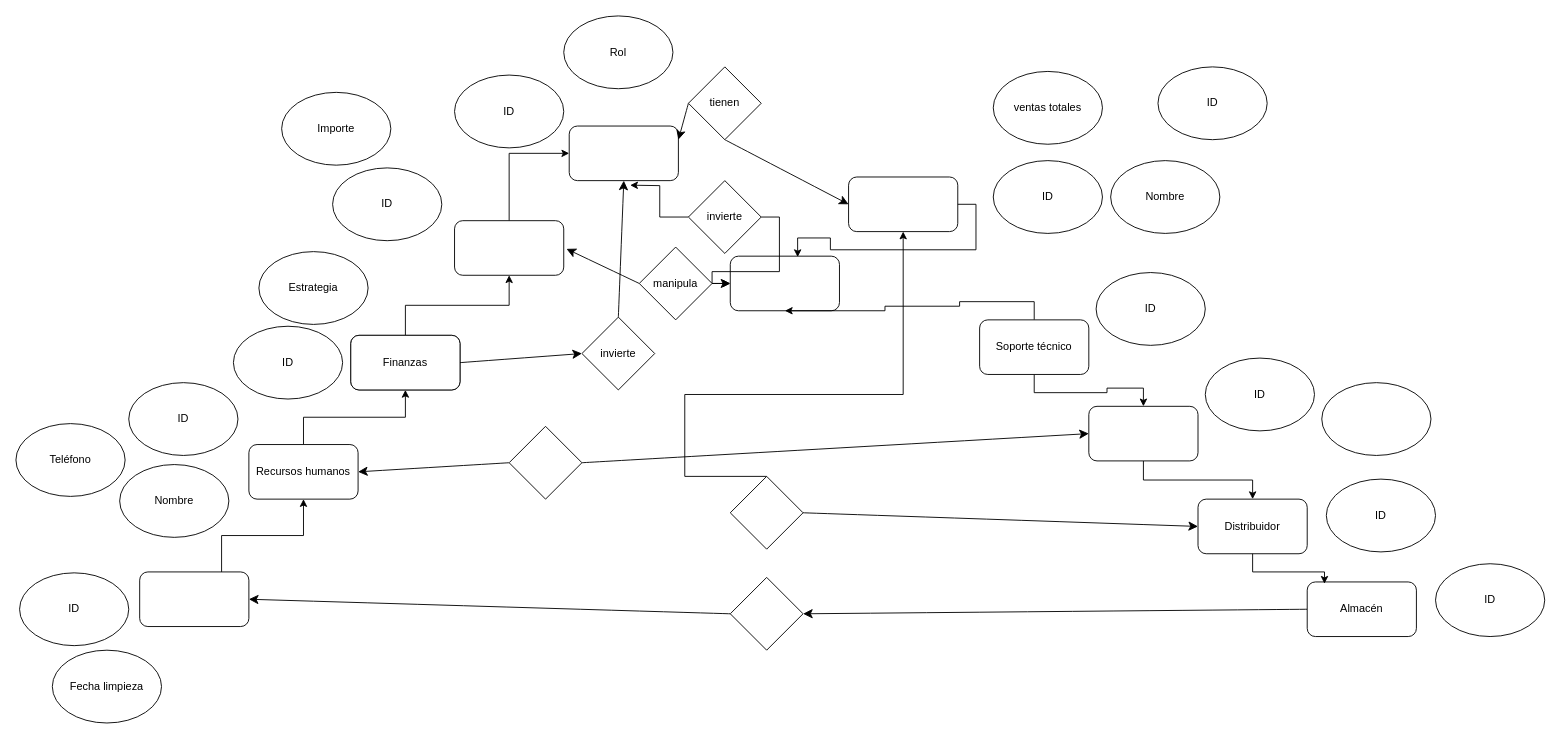
This 1561x739 diagram has some shape labels left out. The shapes that lost their labels are listed below. From the top down, each one's centre as x and y in pixels, then its label:
point (623, 153): Proyectos
point (903, 204): Ventas
point (509, 247): Pedidos
point (784, 283): Proveedor
point (1143, 433): Servicio
point (545, 462): gestiona
point (766, 512): reparte
point (194, 599): Seguridad e higiene
point (766, 613): tiene
